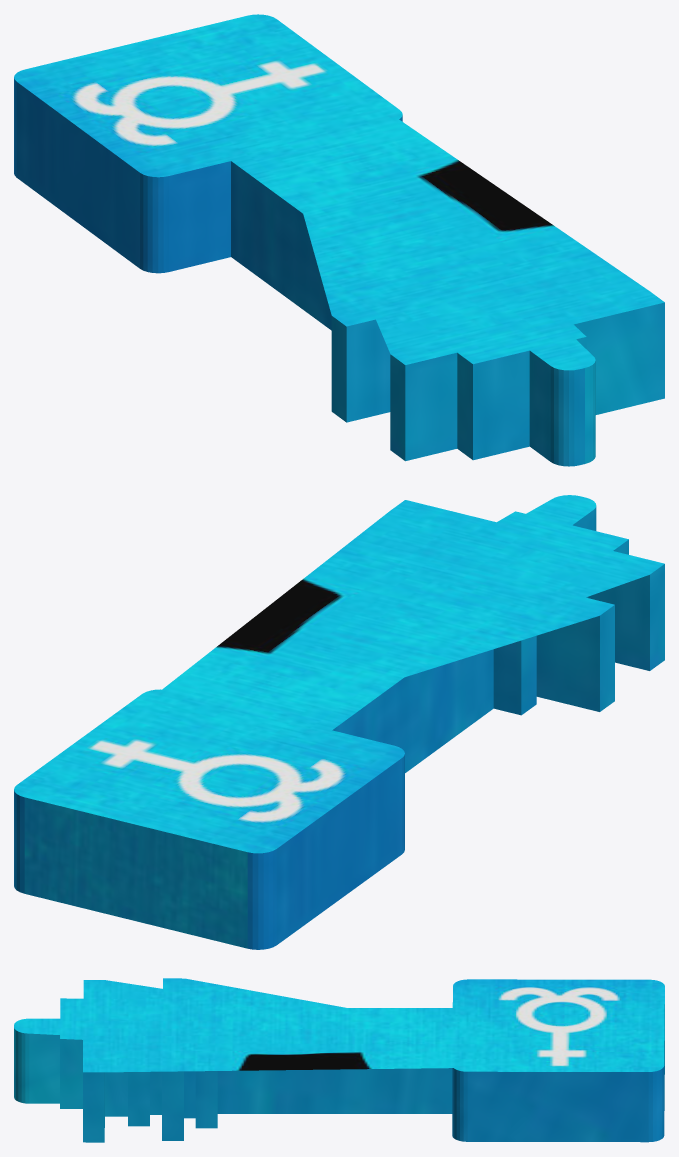
The model's file is Key2.fbx.
3 views of the same model, one above another, from view 1: azimuth 30°, elevation 25°; view 2: azimuth 150°, elevation 25°; view 3: azimuth 270°, elevation 25° (orthographic). The views are drawn at different scales.
Parts seen in each view (by area): view 1: Key2; view 2: Key2; view 3: Key2.
Boxes of the visible parts, bbox=[...] form: Key2: bbox=[14, 14, 664, 466]; Key2: bbox=[14, 495, 664, 949]; Key2: bbox=[14, 978, 664, 1142].
Size of the model in its own units: 2.87 by 1 by 8.41.
Materials: 1 (1 with a texture image).
